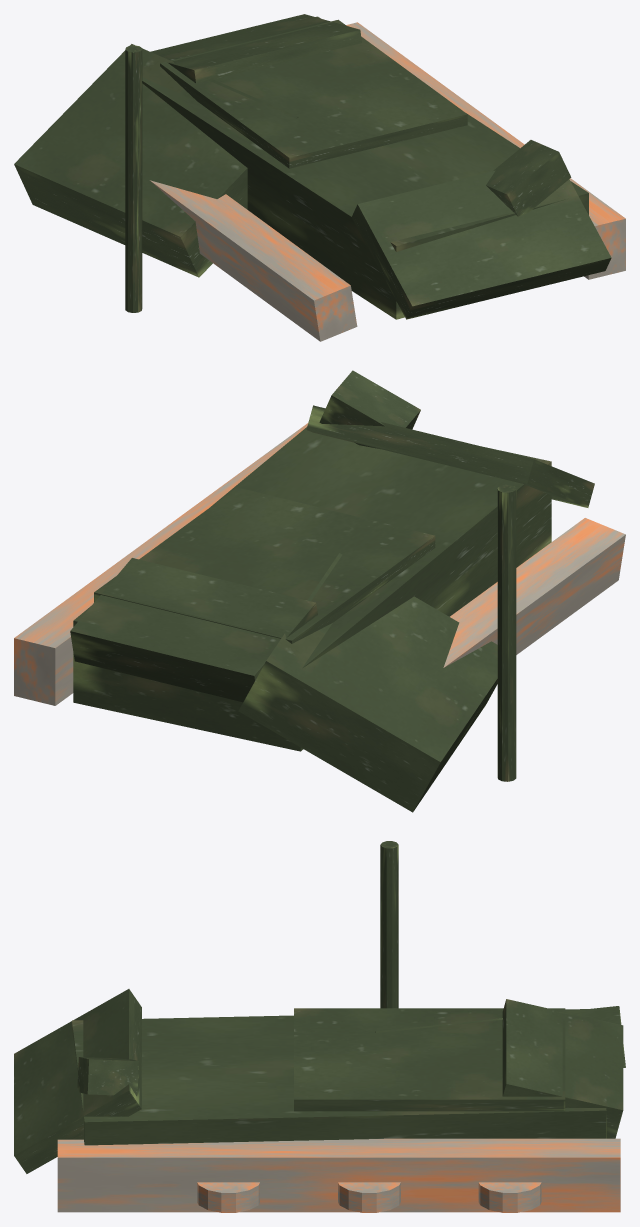
The model's file is wreck.fbx.
3 views of the same model, one above another, from view 1: azimuth 30°, elevation 25°; view 2: azimuth 150°, elevation 25°; view 3: azimuth 270°, elevation 25° (orthographic). The views are drawn at different scales.
Visible parts, largest first — view 1: turret, hull, glacis, deck, track_r, engine, gun, track_l, stowage; view 2: hull, turret, deck, engine, track_r, track_l, glacis, gun, stowage; view 3: track_l, hull, deck, glacis, engine, gun, stowage, wheel0, wheel1, wheel2, turret.
Boxes of the visible parts, x1,y1,x2,y2 form: turret: [14, 44, 298, 277]; hull: [142, 16, 588, 319]; glacis: [351, 170, 611, 319]; deck: [160, 19, 467, 168]; track_r: [150, 180, 357, 341]; engine: [150, 14, 361, 83]; gun: [125, 45, 142, 312]; track_l: [346, 22, 625, 279]; stowage: [486, 140, 571, 216]; hull: [73, 427, 551, 751]; turret: [238, 553, 497, 812]; deck: [94, 487, 435, 643]; engine: [70, 558, 317, 702]; track_r: [443, 518, 625, 667]; track_l: [14, 423, 308, 705]; glacis: [306, 405, 594, 507]; gun: [497, 484, 516, 781]; stowage: [319, 370, 420, 448]; track_l: [57, 1138, 620, 1212]; hull: [72, 1009, 606, 1145]; deck: [294, 1008, 565, 1111]; glacis: [14, 989, 141, 1173]; engine: [502, 999, 623, 1138]; gun: [380, 841, 398, 1008]; stowage: [77, 1057, 138, 1096]; wheel0: [478, 1182, 541, 1212]; wheel1: [338, 1182, 400, 1212]; wheel2: [197, 1182, 259, 1212]; turret: [375, 1006, 625, 1067].
Size of the model in its own units: 463 by 300 by 609.
